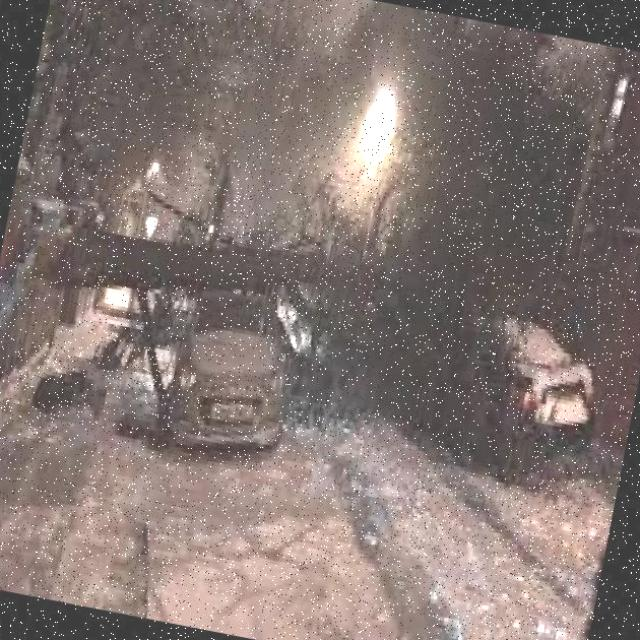fallen_object: (19, 175, 495, 375)
